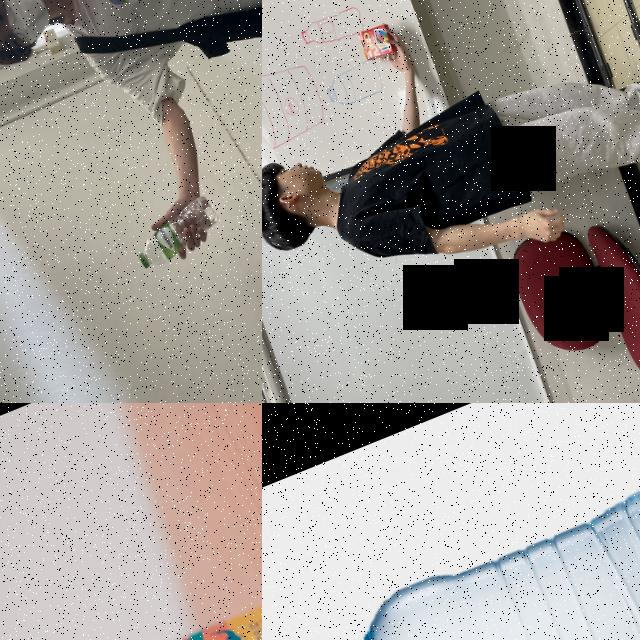bottle: (262, 414, 640, 640), (124, 190, 226, 272)
can: (0, 589, 262, 640)
